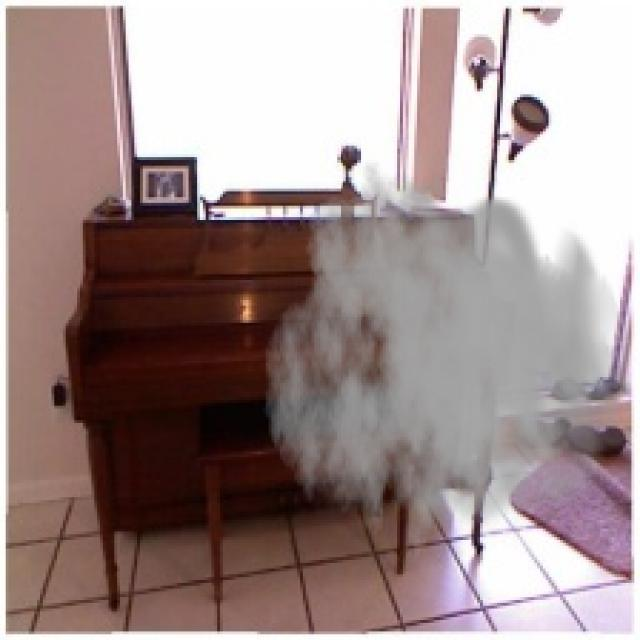Smoke: (263, 160, 623, 577)
